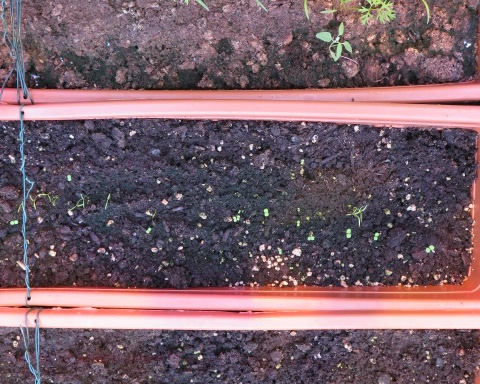crop: (347, 205, 368, 225), (103, 193, 112, 210), (29, 194, 39, 208), (70, 200, 84, 210), (77, 193, 93, 201), (40, 191, 52, 201)
weed: (315, 21, 354, 62), (423, 243, 436, 254), (344, 227, 354, 239), (261, 207, 270, 220), (371, 231, 382, 241), (142, 226, 154, 234), (231, 215, 241, 223), (306, 235, 316, 241), (66, 174, 73, 182), (10, 220, 20, 225), (278, 248, 283, 255), (296, 219, 300, 227), (300, 159, 305, 164)
